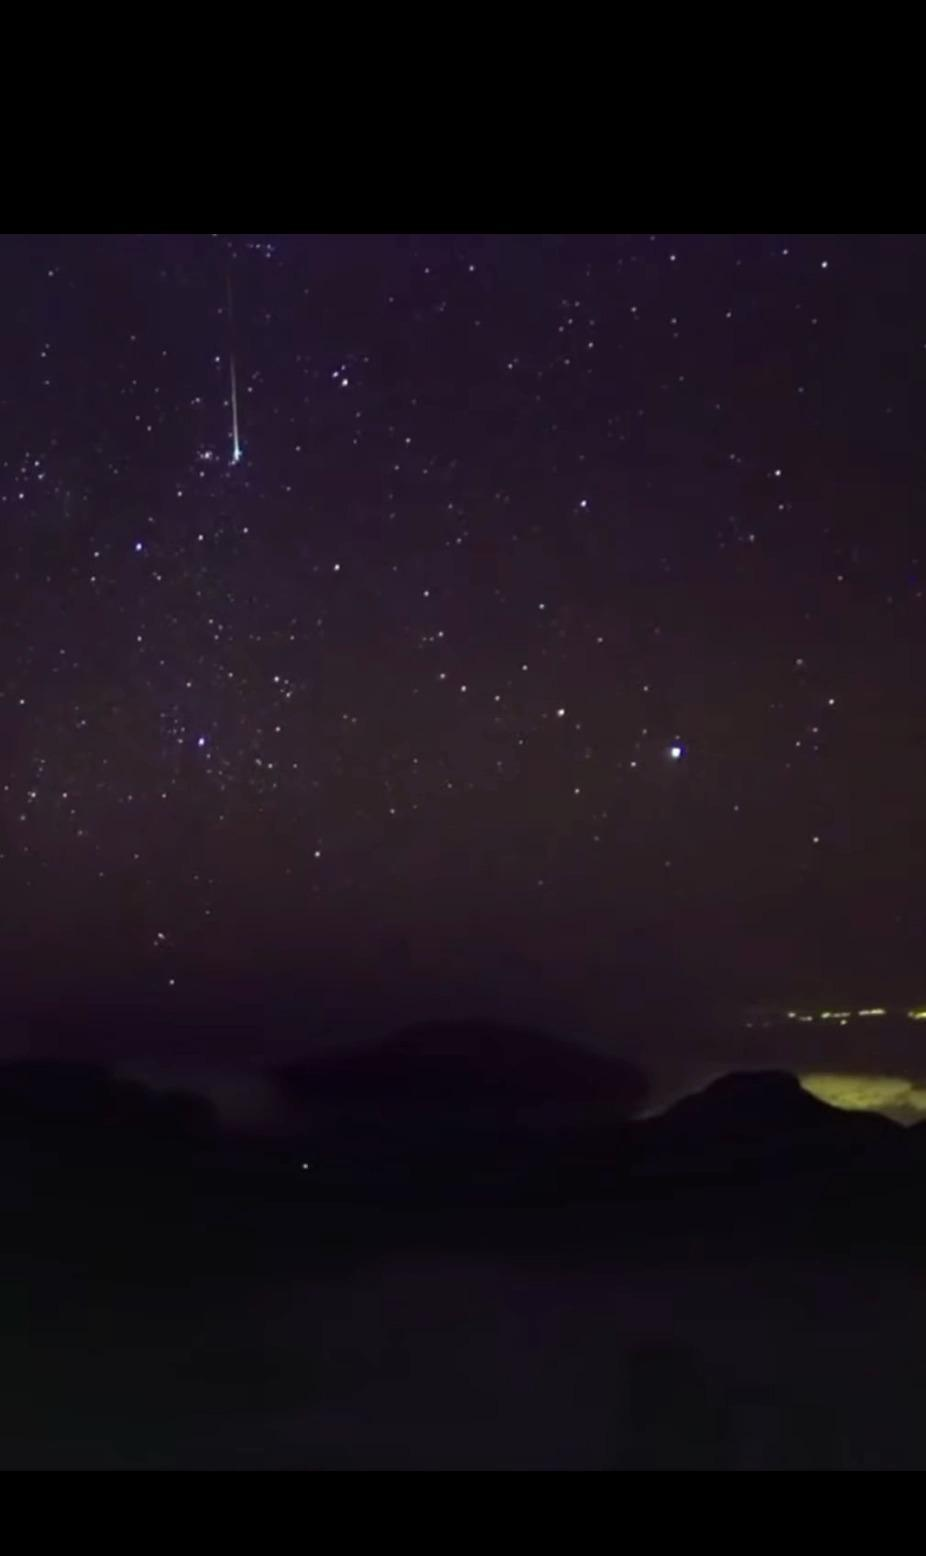meteorite: (211, 358, 259, 471)
